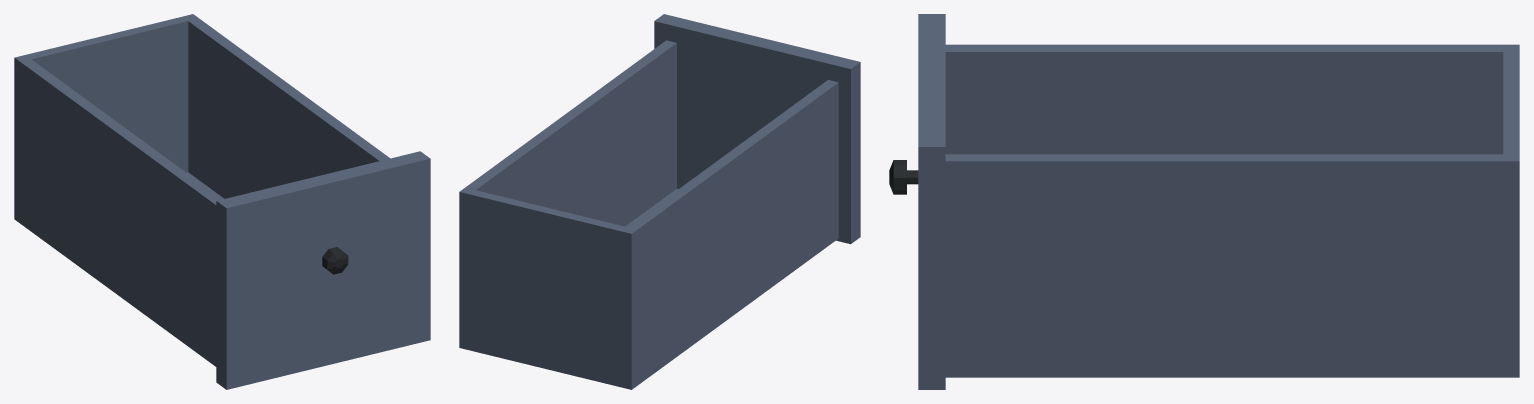
File: Door3_C4_07.fbx
The picture shows the model from 3 angles, left to right: view 1: azimuth 30°, elevation 25°; view 2: azimuth 150°, elevation 25°; view 3: azimuth 270°, elevation 25°; orthographic projection. The views are drawn at different scales.
Parts seen in each view (by area): view 1: Door3_C4_07; view 2: Door3_C4_07; view 3: Door3_C4_07.
Part boxes in pixels (left/top/right/bottom): Door3_C4_07: left=14, top=14, right=430, bottom=389; Door3_C4_07: left=459, top=14, right=860, bottom=389; Door3_C4_07: left=889, top=14, right=1519, bottom=389.
Size of the model in its own units: 29 by 24.68 by 58.03.
